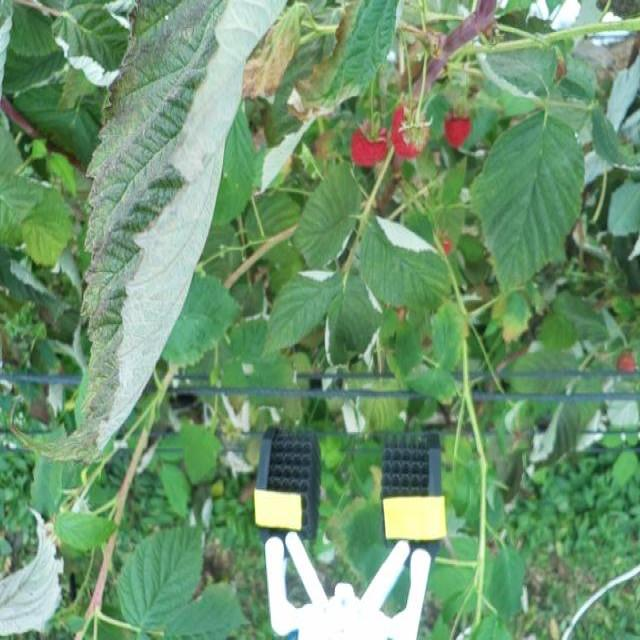Riped berries: (388, 98, 430, 162), (349, 115, 388, 170), (441, 104, 477, 150)
